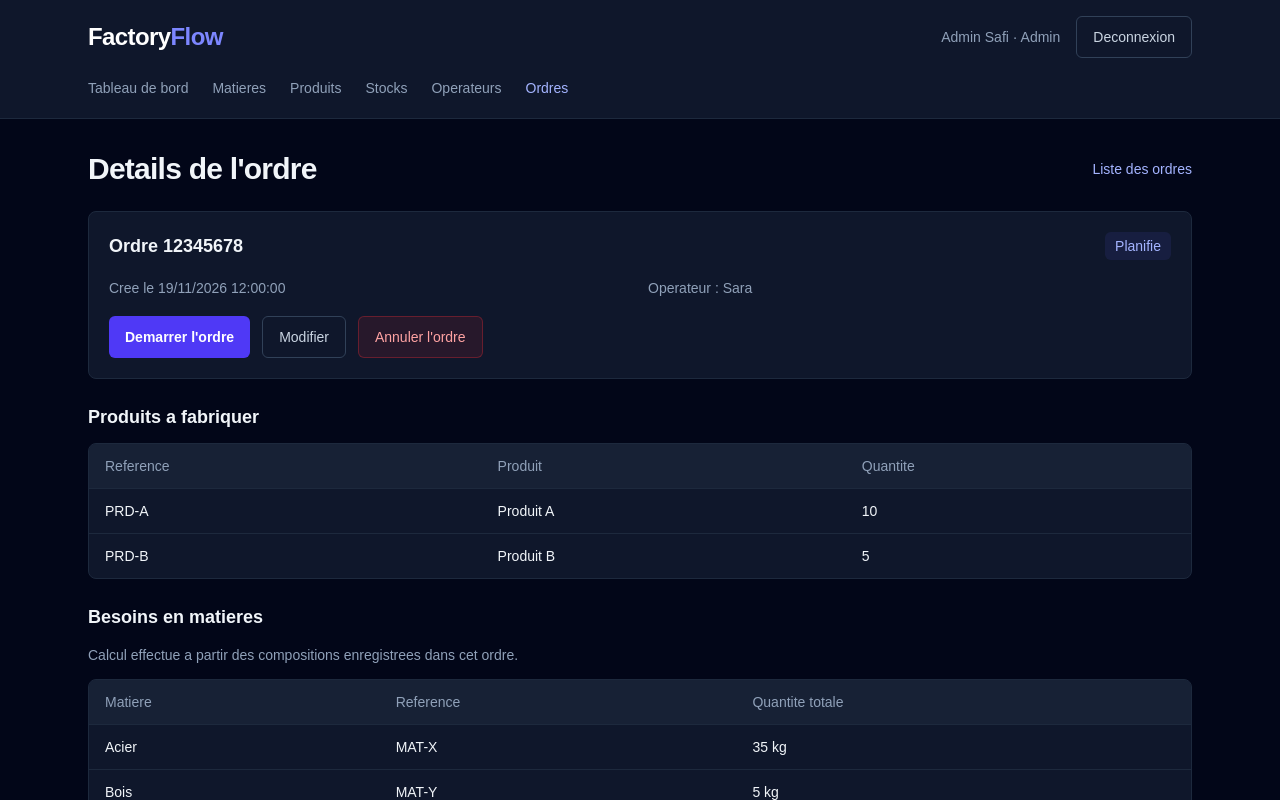
Test: only admins see cancellation and a confirmed cancel refreshes the status
Click the button "Annuler l'ordre" at coordinates (420, 337), box 358,316 -> 483,358
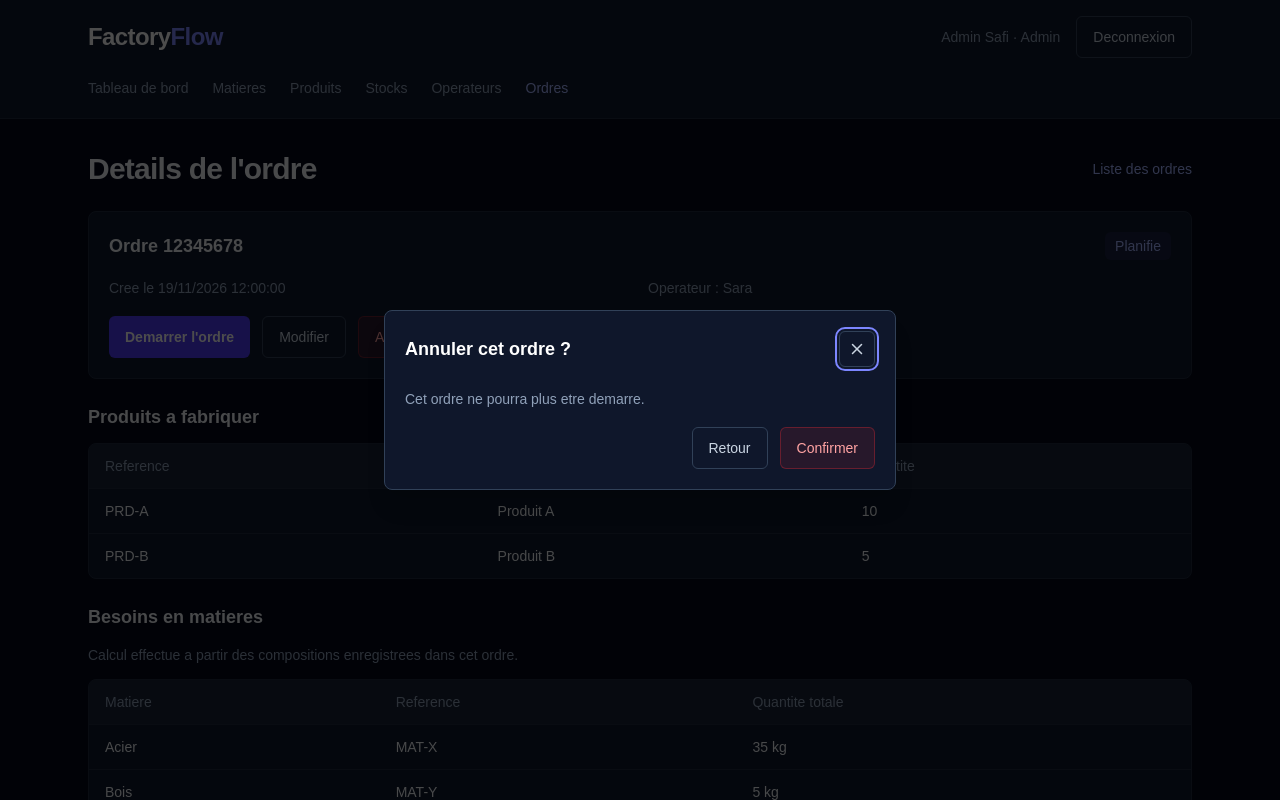
Click the button "Confirmer" at coordinates (827, 448), box 780,427 -> 875,469
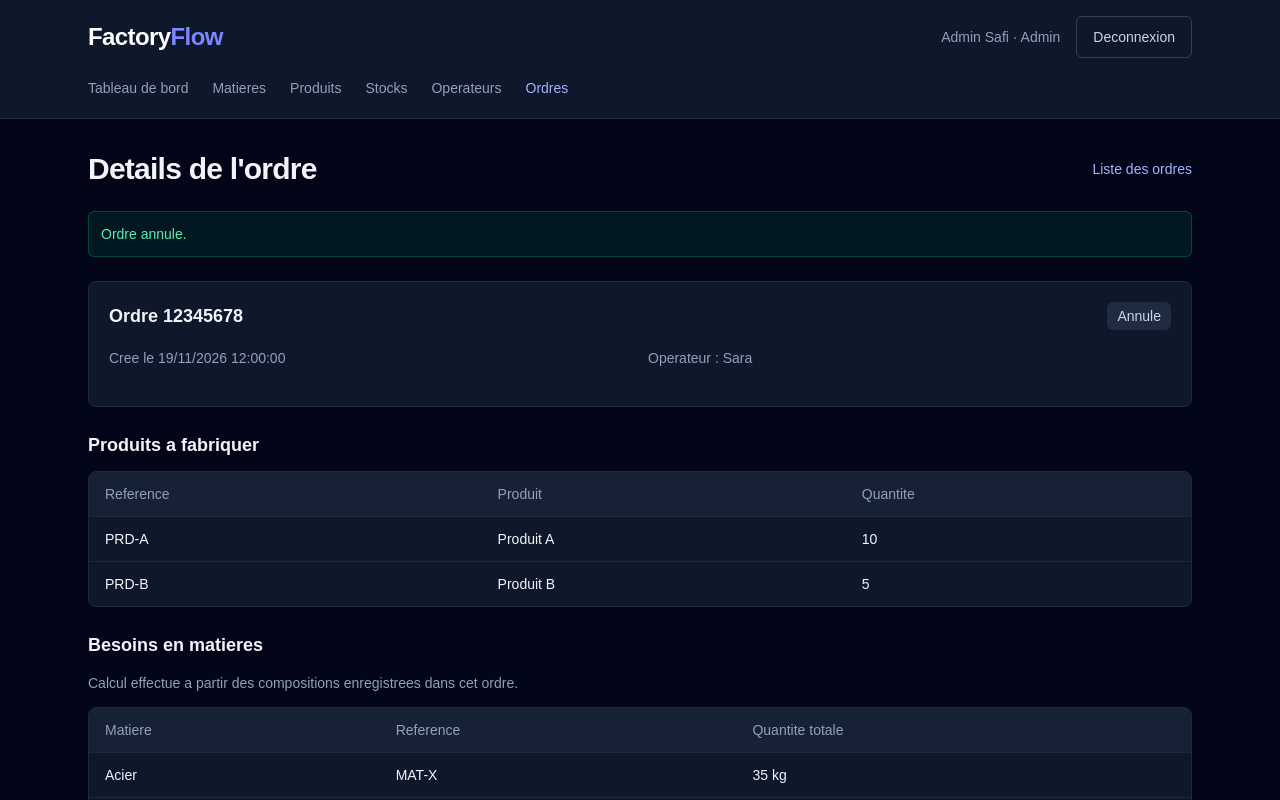
Now the text "Annule" is shown, box 1107,302 -> 1171,330
Now the button "Demarrer l'ordre" is gone
